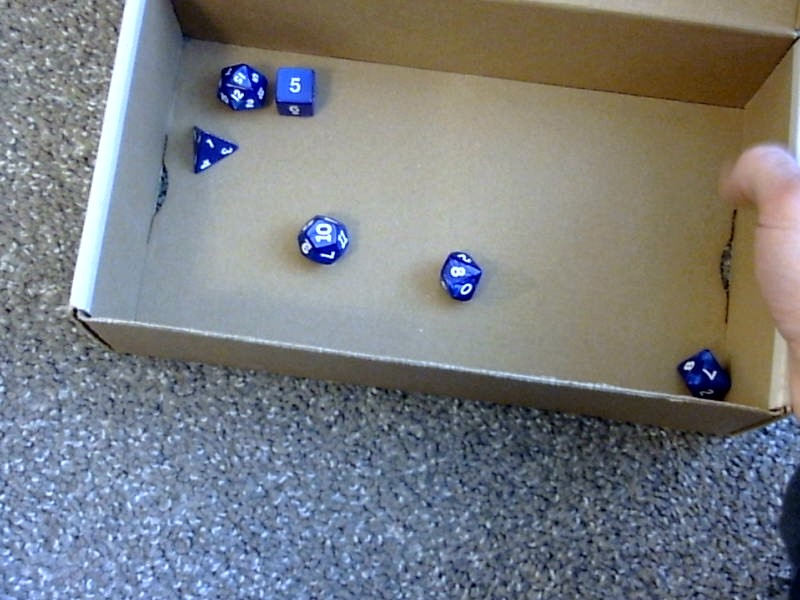d10 8: (435, 242, 483, 305)
d12 10: (294, 209, 351, 268)
d20 15: (213, 57, 269, 113)
d4 1: (186, 122, 240, 174)
d6 5: (272, 60, 319, 122)
d8 7: (675, 342, 733, 402)
